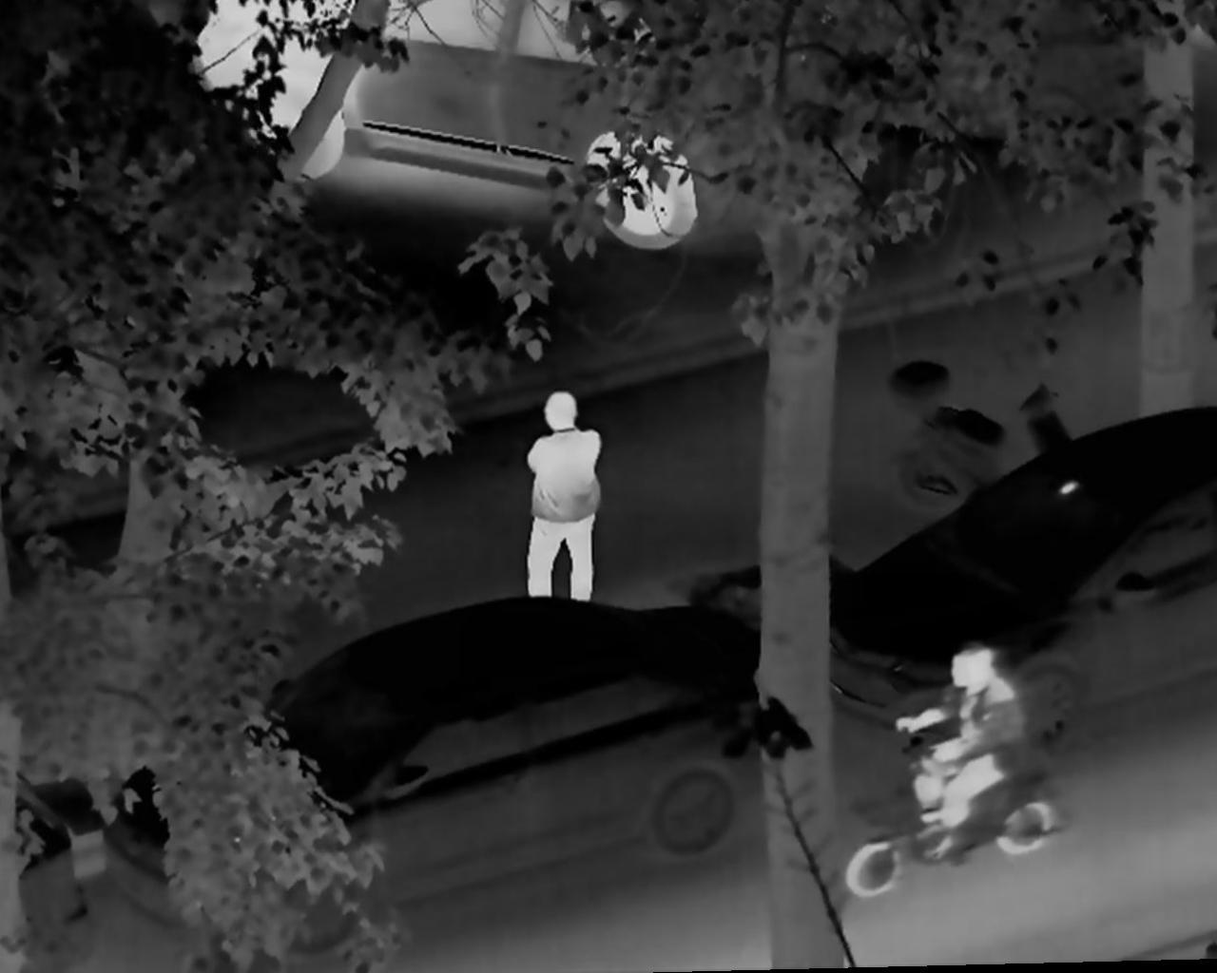person: (897, 638, 1020, 872), (517, 390, 605, 607)
